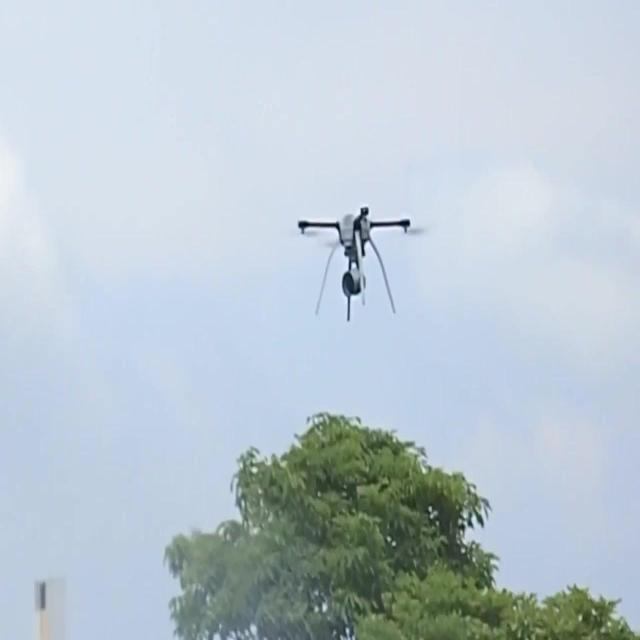drone: (297, 202, 411, 326)
